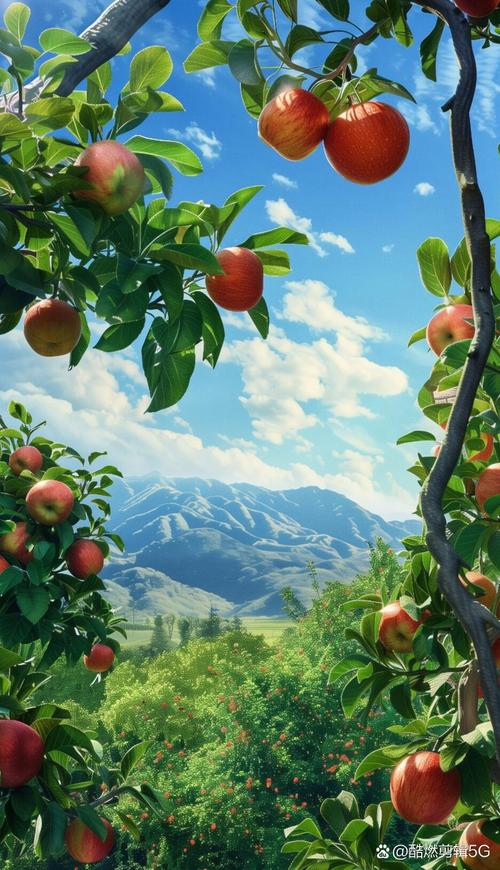ripe: (324, 89, 422, 180), (249, 67, 333, 173), (377, 746, 464, 828), (200, 237, 271, 317), (58, 792, 113, 868), (0, 712, 44, 801), (22, 473, 80, 526), (62, 539, 111, 584)
unripe: (60, 133, 142, 211), (16, 284, 80, 357), (424, 297, 486, 368), (364, 595, 433, 652)
